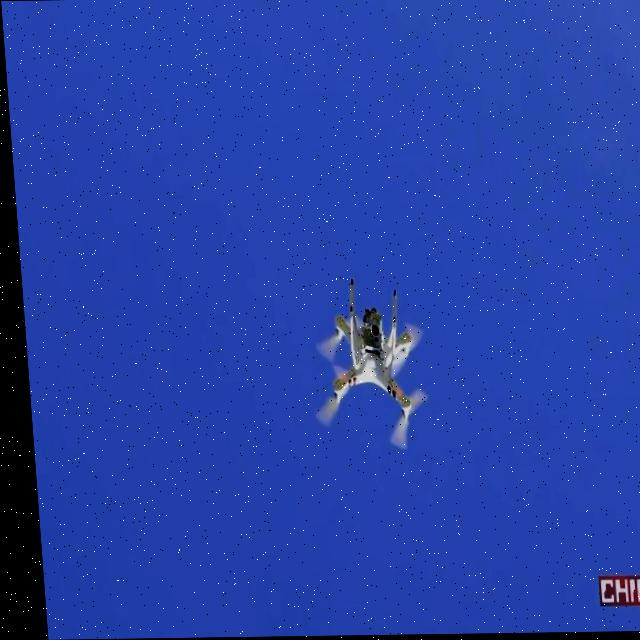drone: (311, 279, 415, 433)
